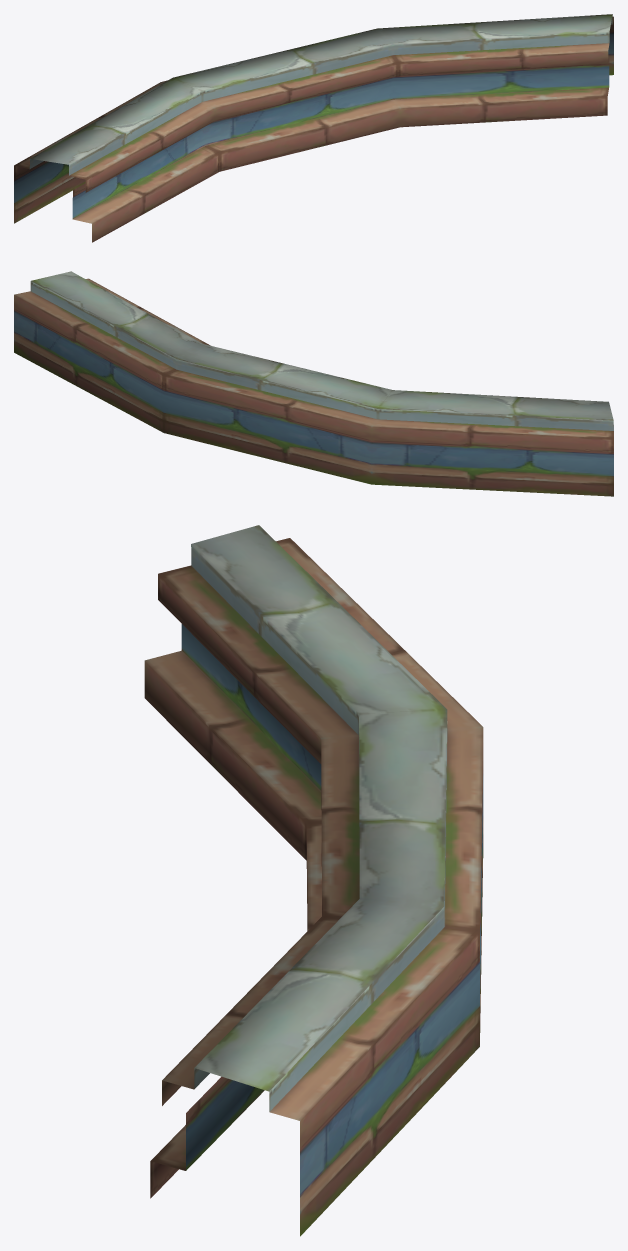
Rendered from Map_003_brick01.FBX.
The picture shows the model from 3 angles, top to bottom: view 1: azimuth 30°, elevation 25°; view 2: azimuth 150°, elevation 25°; view 3: azimuth 270°, elevation 25°; orthographic projection. The views are drawn at different scales.
Parts seen in each view (by area): view 1: Map_003_brick01; view 2: Map_003_brick01; view 3: Map_003_brick01.
Boxes of the visible parts, x1,y1,x2,y2 form: Map_003_brick01: [14, 14, 613, 242]; Map_003_brick01: [14, 271, 613, 496]; Map_003_brick01: [144, 525, 483, 1236].
Size of the model in its own units: 1456 by 358 by 167.
